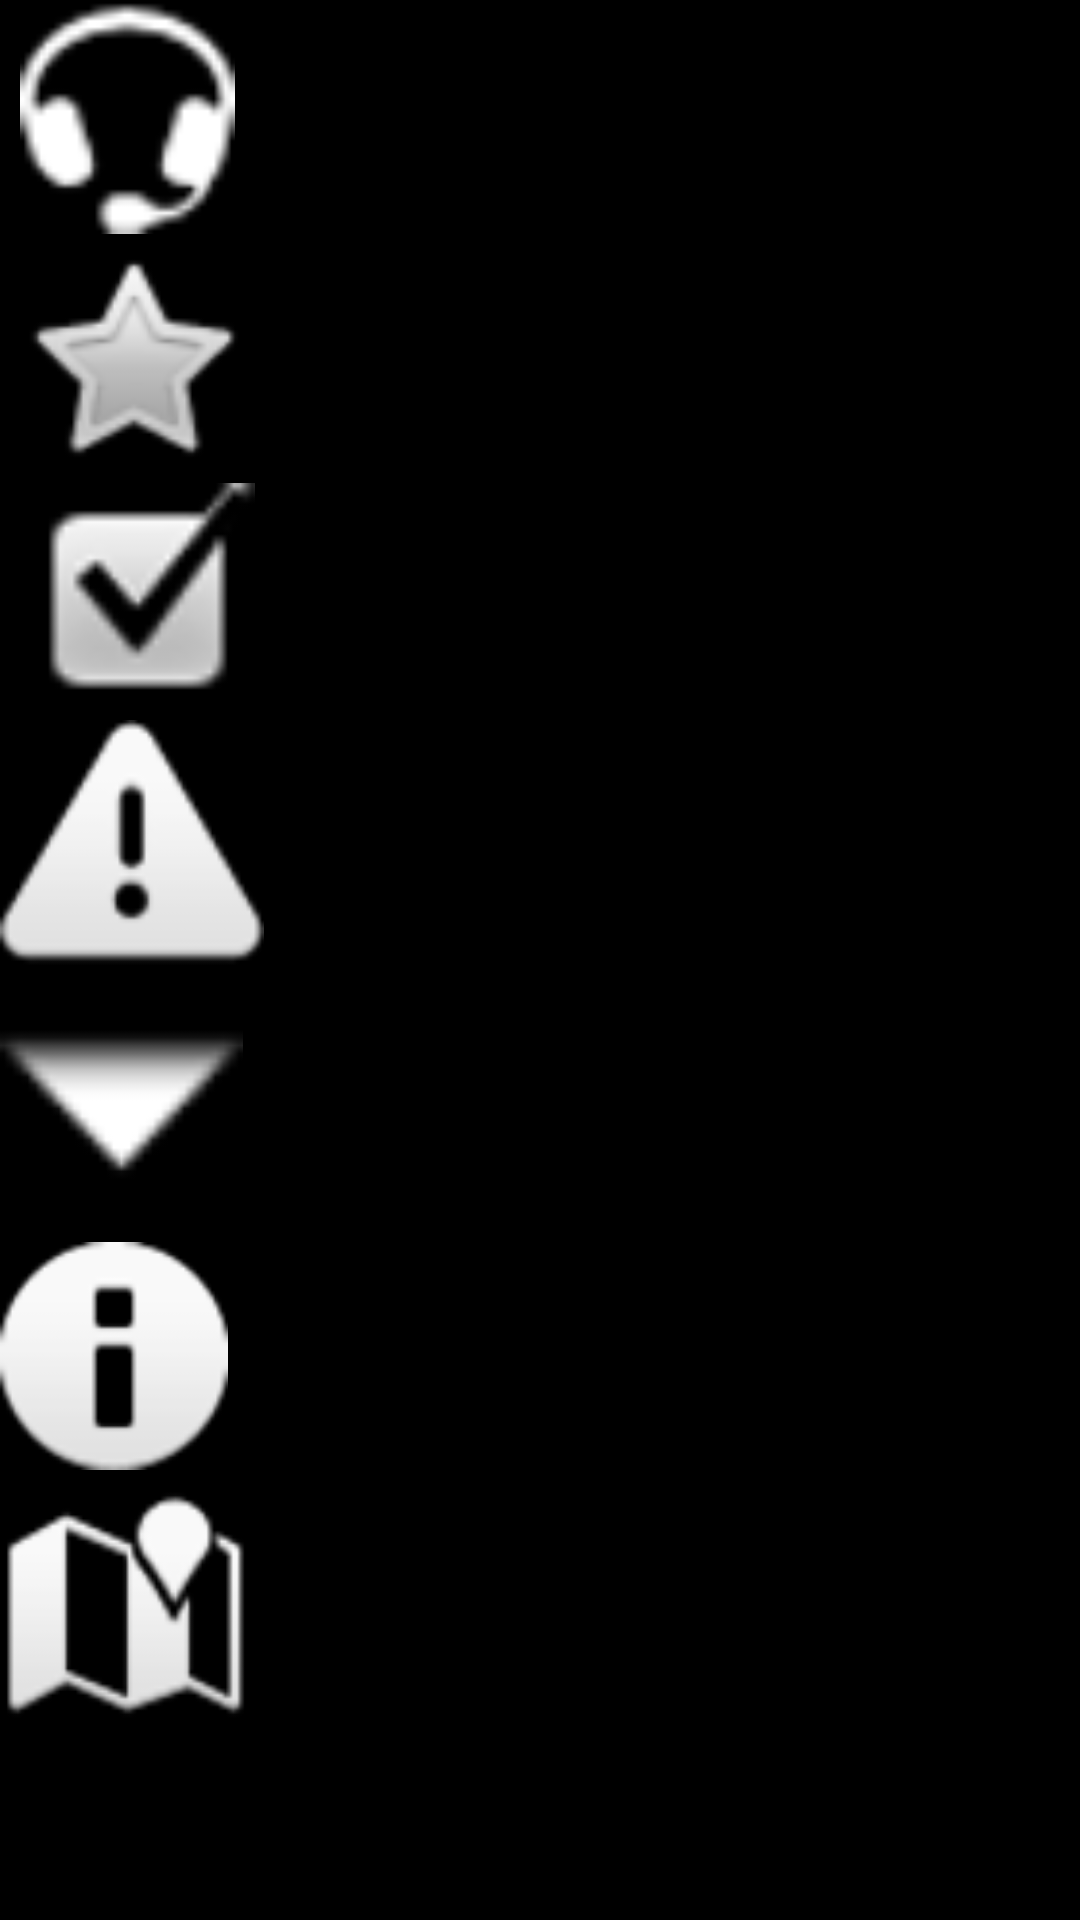

Named icons in this screenshot (1080*1920) and their centers, (x=x, y=y):
alert: (x=132, y=840)
arrow down float: (x=121, y=1105)
headset: (x=127, y=119)
info: (x=114, y=1356)
map: (x=125, y=1604)
star: (x=134, y=358)
